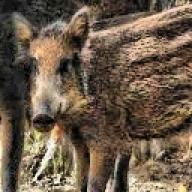boar: (9, 0, 192, 192), (0, 0, 153, 192)
